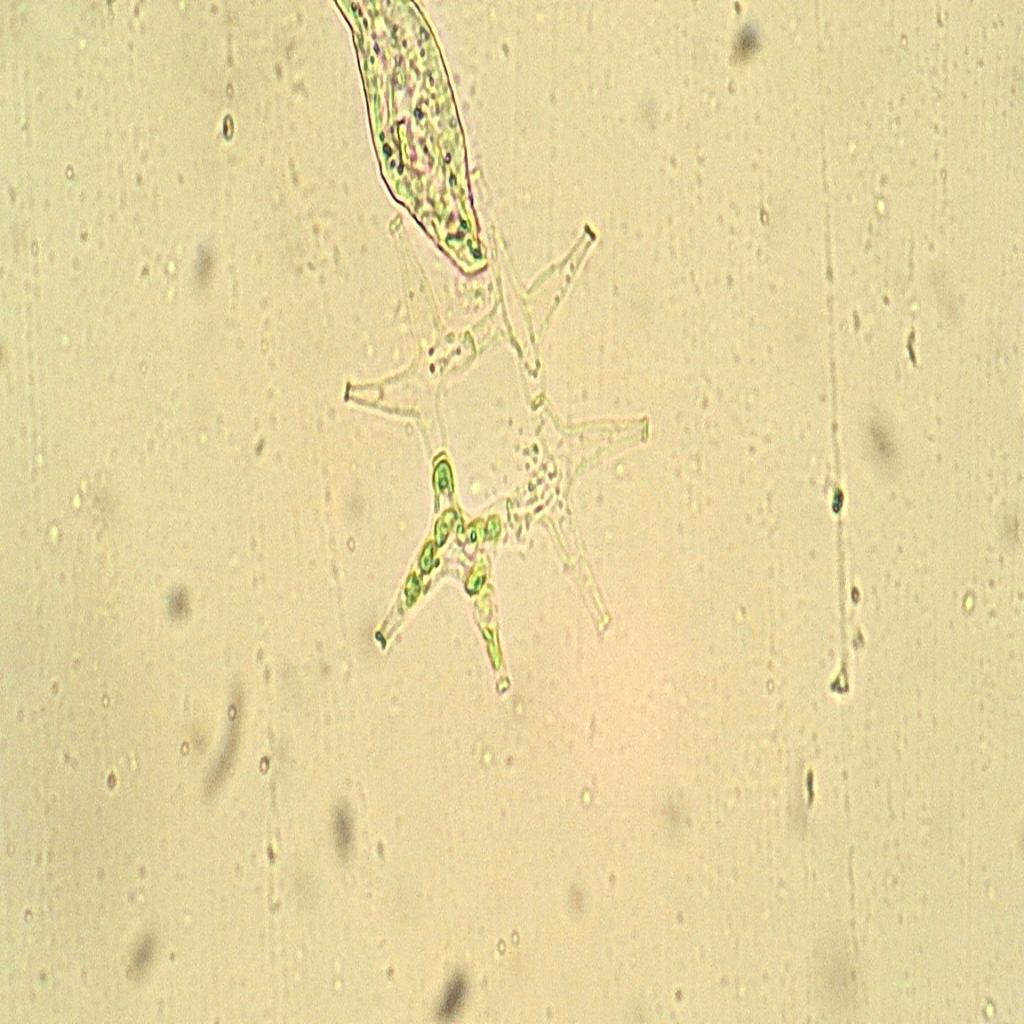Pediastrum_75TH: (319, 146, 657, 754)
